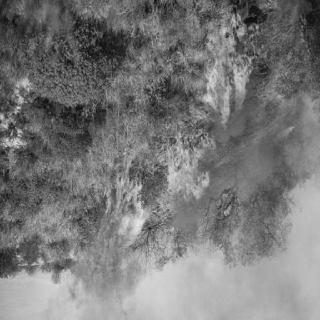Fire: (86, 134, 214, 314), (196, 10, 272, 132), (280, 121, 298, 145)
